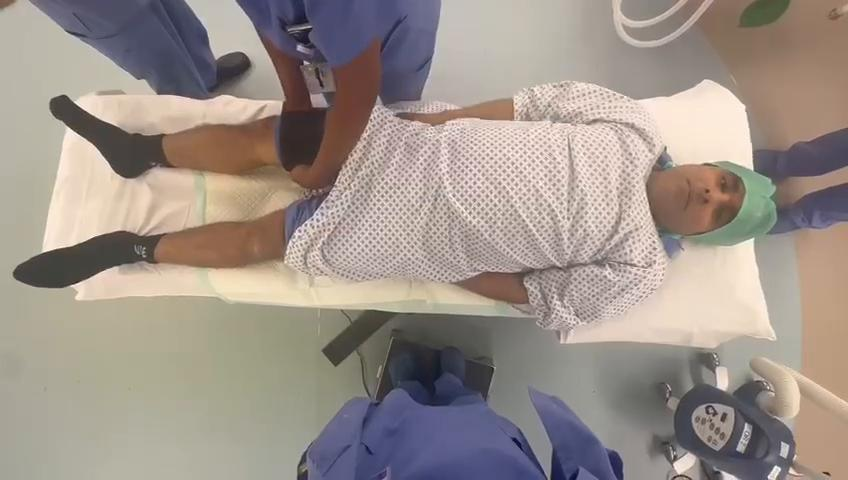bed: (15, 81, 777, 347)
patient: (13, 83, 777, 329), (51, 96, 326, 176)
tourniquet: (282, 109, 325, 171)
